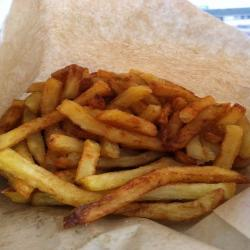fries: (4, 61, 250, 239)
